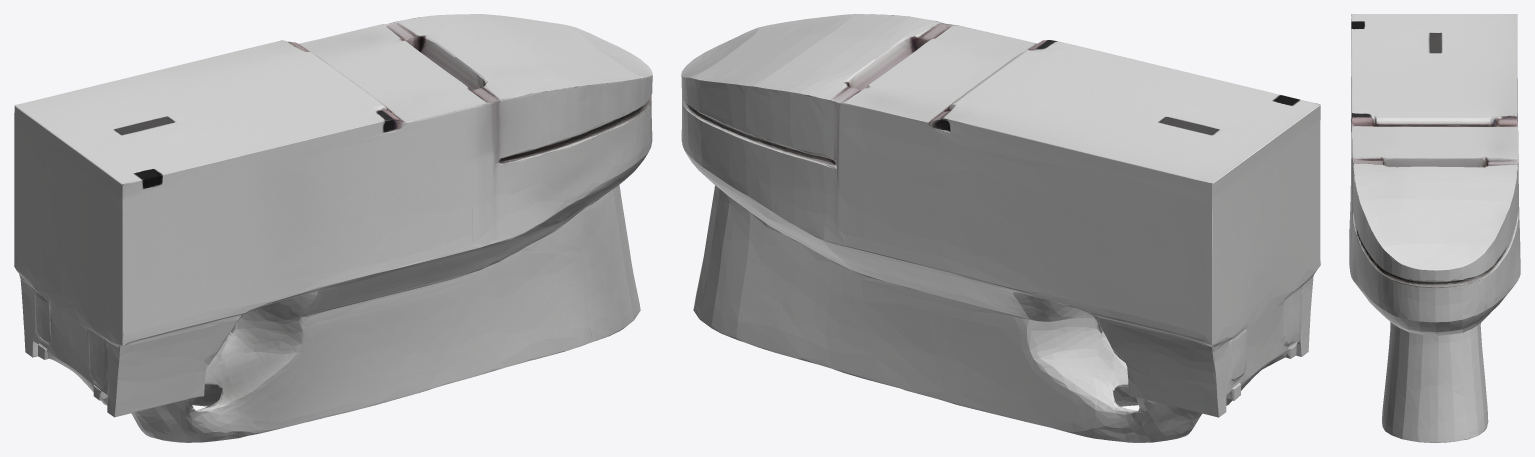
The picture shows the model from 3 angles, left to right: view 1: azimuth 30°, elevation 25°; view 2: azimuth 150°, elevation 25°; view 3: azimuth 270°, elevation 25°; orthographic projection. The views are drawn at different scales.
Parts seen in each view (by area): view 1: world; view 2: world; view 3: world.
Part boxes in pixels (box(x1,y1,x2,y2)): world: box(14, 14, 652, 442); world: box(681, 14, 1320, 442); world: box(1349, 14, 1520, 442).
Bounding box in the file's own units: 0.9966 × 0.5154 × 0.3354.
1 material, 1 textured.
